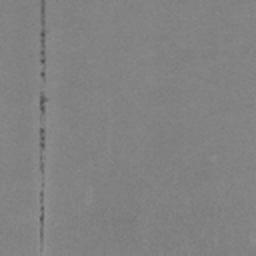Slag inclusion: (40, 0, 46, 65), (39, 92, 48, 116), (39, 128, 45, 150), (40, 206, 44, 226), (40, 70, 46, 79), (40, 162, 44, 173)
